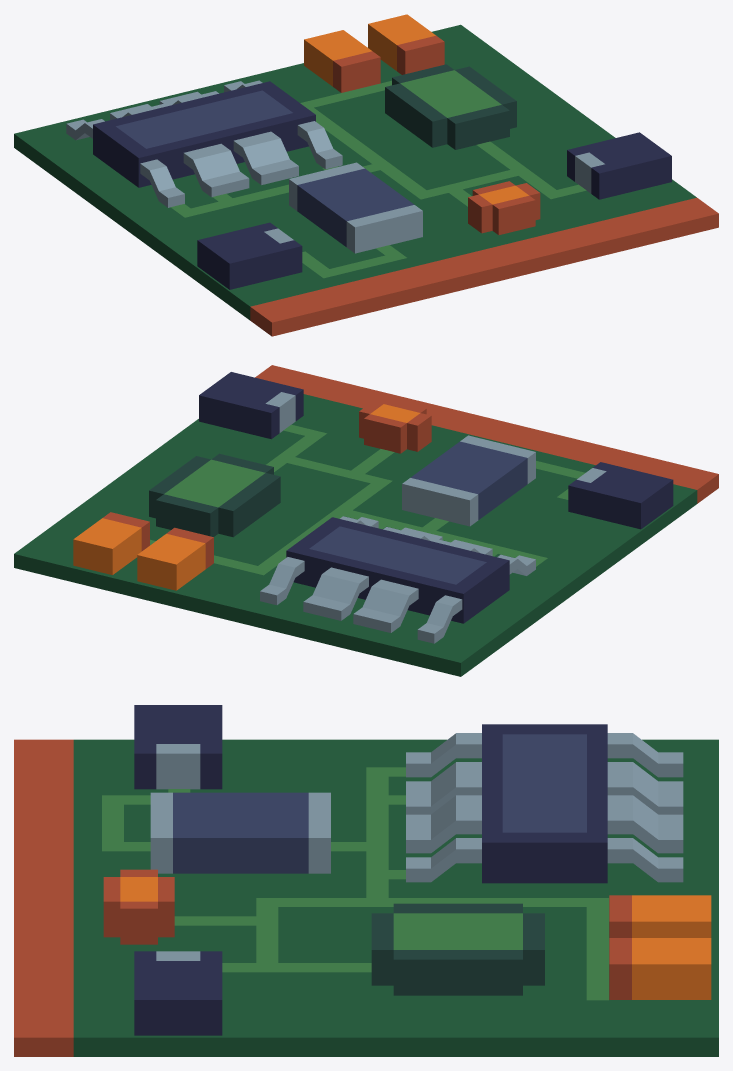
Rendered from ElectronicCircuit.fbx.
The picture shows the model from 3 angles, top to bottom: view 1: azimuth 30°, elevation 25°; view 2: azimuth 150°, elevation 25°; view 3: azimuth 270°, elevation 25°; orthographic projection. The views are drawn at different scales.
Parts seen in each view (by area): view 1: ElectronicCircuit; view 2: ElectronicCircuit; view 3: ElectronicCircuit.
Boxes of the visible parts, box(x1,y1,x2,y2) form: ElectronicCircuit: box(14, 14, 718, 336); ElectronicCircuit: box(14, 365, 718, 676); ElectronicCircuit: box(14, 705, 718, 1056).
Size of the model in its own units: 200 by 200 by 18.75.
1 material, 1 textured.
